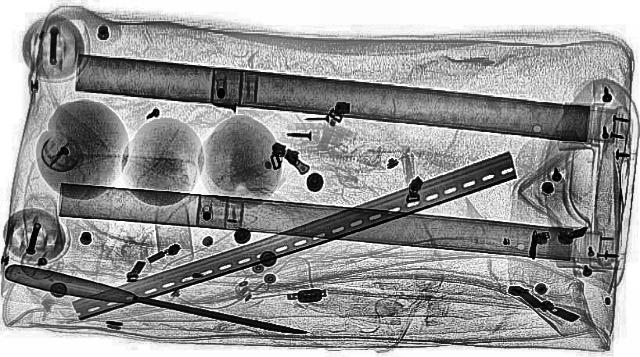Knife: (0, 262, 314, 342)
